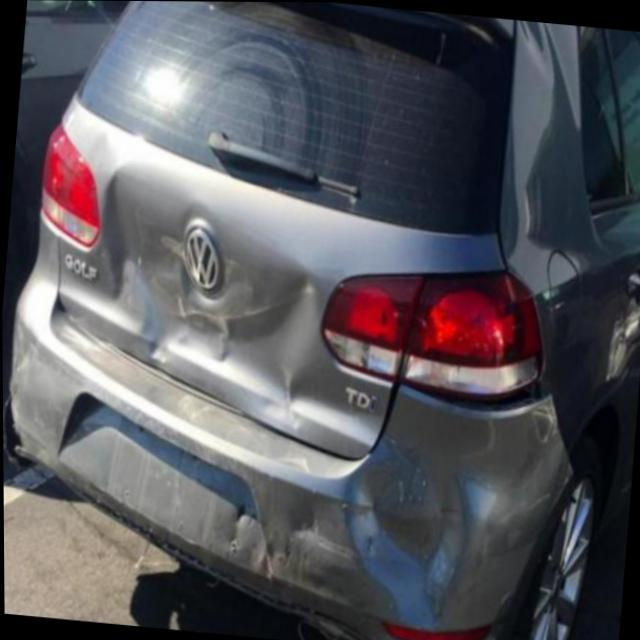crack: (235, 502, 245, 521)
dent: (342, 428, 467, 625), (98, 168, 171, 359), (214, 269, 323, 395), (157, 238, 233, 360), (259, 395, 307, 429)
scratch: (287, 499, 317, 533)
